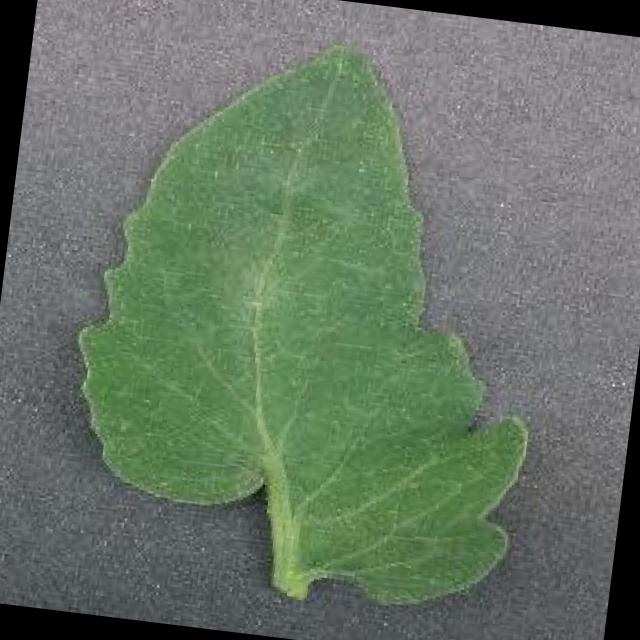Tomato_Healthy: (34, 9, 587, 622)
